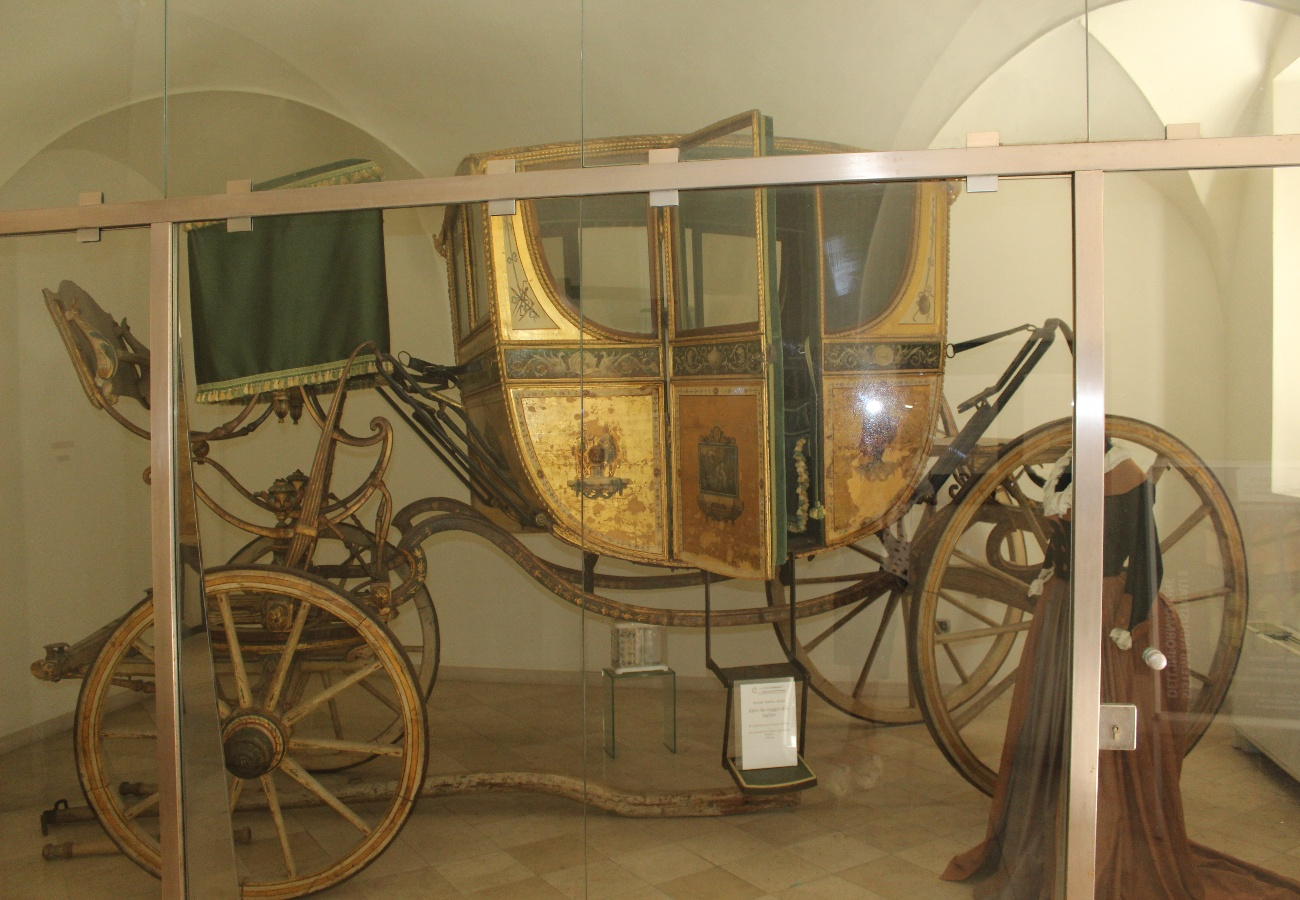Berlina Mosca: (32, 110, 1253, 900)
